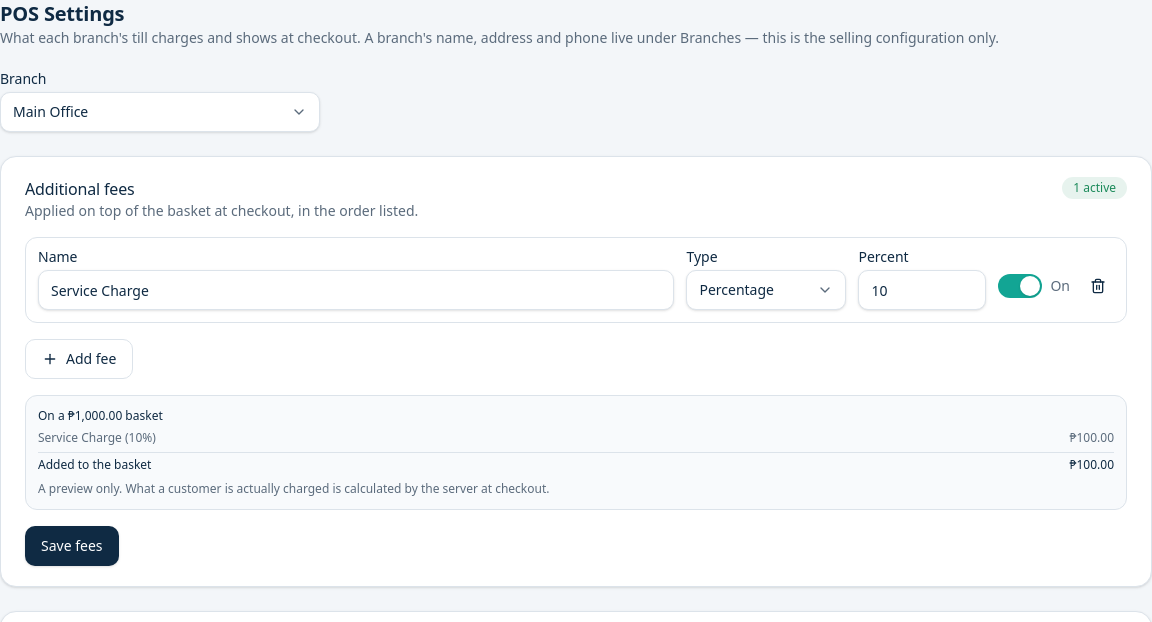
editing › removes a fee
The image size is (1152, 622).
Click the button named "Remove Service Charge": {"x": 1098, "y": 286} [1082,270,1114,302]
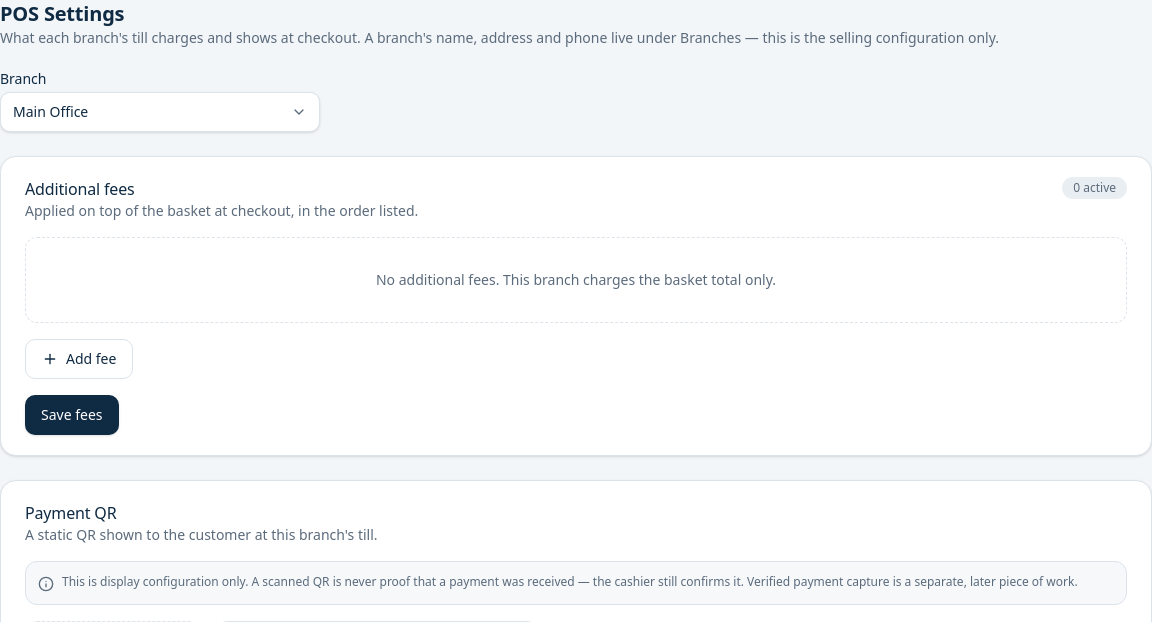
Result: the text "No additional fees" is shown at [376,270,776,289]
